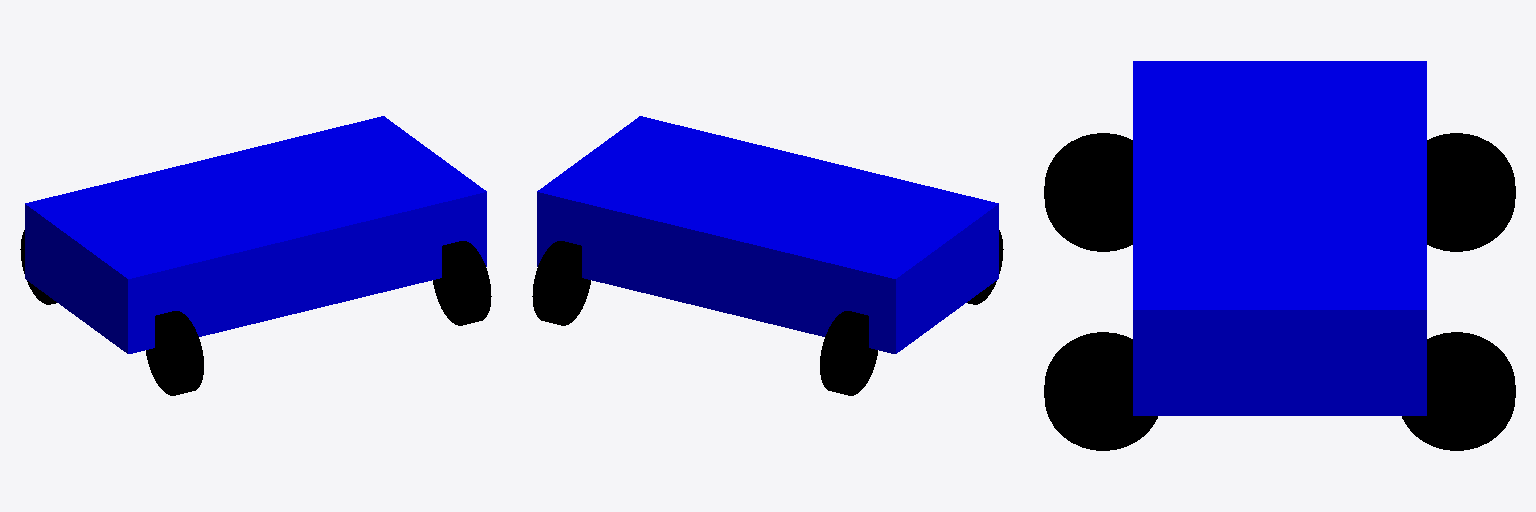
The robot description file, URDF, robot "robot":
<?xml version="1.0"?>
<robot name="robot">
  <!-- Base Link -->
  <link name="base_link">
    <visual>
      <geometry>
        <box size="1.0 0.5 0.2"/>
      </geometry>
      <material name="blue">
        <color rgba="0 0 1 1"/>
      </material>
    </visual>
    <collision>
      <geometry>
        <box size="1.0 0.5 0.2"/>
      </geometry>
    </collision>
    <inertial>
      <mass value="5.0"/>
      <inertia ixx="0.1" ixy="0.0" ixz="0.0" iyy="0.1" iyz="0.0" izz="0.1"/>
    </inertial>
  </link>

  <!-- Front Left Wheel -->
  <link name="front_left_wheel">
    <visual>
      <geometry>
        <cylinder radius="0.1" length="0.05"/>
      </geometry>
      <material name="black">
        <color rgba="0 0 0 1"/>
      </material>
    </visual>
    <collision>
      <geometry>
        <cylinder radius="0.1" length="0.05"/>
      </geometry>
    </collision>
    <inertial>
      <mass value="1.0"/>
      <inertia ixx="0.01" ixy="0.0" ixz="0.0" iyy="0.01" iyz="0.0" izz="0.01"/>
    </inertial>
  </link>

  <!-- Front Right Wheel -->
  <link name="front_right_wheel">
    <visual>
      <geometry>
        <cylinder radius="0.1" length="0.05"/>
      </geometry>
      <material name="black">
        <color rgba="0 0 0 1"/>
      </material>
    </visual>
    <collision>
      <geometry>
        <cylinder radius="0.1" length="0.05"/>
      </geometry>
    </collision>
    <inertial>
      <mass value="1.0"/>
      <inertia ixx="0.01" ixy="0.0" ixz="0.0" iyy="0.01" iyz="0.0" izz="0.01"/>
    </inertial>
  </link>

  <!-- Rear Left Wheel -->
  <link name="rear_left_wheel">
    <visual>
      <geometry>
        <cylinder radius="0.1" length="0.05"/>
      </geometry>
      <material name="black">
        <color rgba="0 0 0 1"/>
      </material>
    </visual>
    <collision>
      <geometry>
        <cylinder radius="0.1" length="0.05"/>
      </geometry>
    </collision>
    <inertial>
      <mass value="1.0"/>
      <inertia ixx="0.01" ixy="0.0" ixz="0.0" iyy="0.01" iyz="0.0" izz="0.01"/>
    </inertial>
  </link>

  <!-- Rear Right Wheel -->
  <link name="rear_right_wheel">
    <visual>
      <geometry>
        <cylinder radius="0.1" length="0.05"/>
      </geometry>
      <material name="black">
        <color rgba="0 0 0 1"/>
      </material>
    </visual>
    <collision>
      <geometry>
        <cylinder radius="0.1" length="0.05"/>
      </geometry>
    </collision>
    <inertial>
      <mass value="1.0"/>
      <inertia ixx="0.01" ixy="0.0" ixz="0.0" iyy="0.01" iyz="0.0" izz="0.01"/>
    </inertial>
  </link>

  <!-- Joints -->
  <joint name="front_left_joint" type="continuous">
    <parent link="base_link"/>
    <child link="front_left_wheel"/>
    <origin xyz="0.4 0.3 -0.1" rpy="0 1.5708 0"/>
    <axis xyz="0 0 1"/>
  </joint>

  <joint name="front_right_joint" type="continuous">
    <parent link="base_link"/>
    <child link="front_right_wheel"/>
    <origin xyz="0.4 -0.3 -0.1" rpy="0 1.5708 0"/>
    <axis xyz="0 0 1"/>
  </joint>

  <joint name="rear_left_joint" type="continuous">
    <parent link="base_link"/>
    <child link="rear_left_wheel"/>
    <origin xyz="-0.4 0.3 -0.1" rpy="0 1.5708 0"/>
    <axis xyz="0 0 1"/>
  </joint>

  <joint name="rear_right_joint" type="continuous">
    <parent link="base_link"/>
    <child link="rear_right_wheel"/>
    <origin xyz="-0.4 -0.3 -0.1" rpy="0 1.5708 0"/>
    <axis xyz="0 0 1"/>
  </joint>

  <gazebo>
    <plugin name="gazebo_ros_diff_drive" filename="libgazebo_ros_diff_drive.so">
      <ros>
        <namespace>/</namespace>
        <remapping>cmd_vel:=cmd_vel</remapping>
      </ros>
      <commandTopic>cmd_vel</commandTopic>
      <odometryTopic>odom</odometryTopic>
      <robotBaseFrame>base_link</robotBaseFrame>
      <left_joint>rear_left_joint</left_joint>
      <right_joint>rear_right_joint</right_joint>
    </plugin>
  </gazebo>
</robot>

--- What the picture shows (computed from the rendered views, not written in the file) ---
The picture shows the robot from 3 angles, left to right: view 1: azimuth 30°, elevation 25°; view 2: azimuth 150°, elevation 25°; view 3: azimuth 270°, elevation 25°; orthographic projection.
Robot: robot — 5 links, 4 joints (4 continuous); root link base_link; default pose: every joint at zero.
Visible links, largest first — view 1: base_link, front_right_wheel, rear_right_wheel; view 2: base_link, front_left_wheel, rear_left_wheel; view 3: base_link, front_left_wheel, front_right_wheel, rear_left_wheel, rear_right_wheel.
Link boxes in pixels (box(x1,y1,x2,y2)): base_link: box(25, 116, 486, 353); front_right_wheel: box(433, 241, 491, 325); rear_right_wheel: box(146, 311, 203, 395); base_link: box(537, 116, 998, 353); front_left_wheel: box(532, 241, 590, 325); rear_left_wheel: box(820, 311, 877, 395); base_link: box(1133, 61, 1426, 415); front_left_wheel: box(1402, 332, 1515, 450); front_right_wheel: box(1044, 332, 1157, 450); rear_left_wheel: box(1427, 133, 1515, 251); rear_right_wheel: box(1044, 133, 1132, 251).
Bounding box of the posed robot: 1 × 0.8 × 0.3 m (x, y, z).
Geometry: primitives only (box / cylinder / sphere), no mesh files.